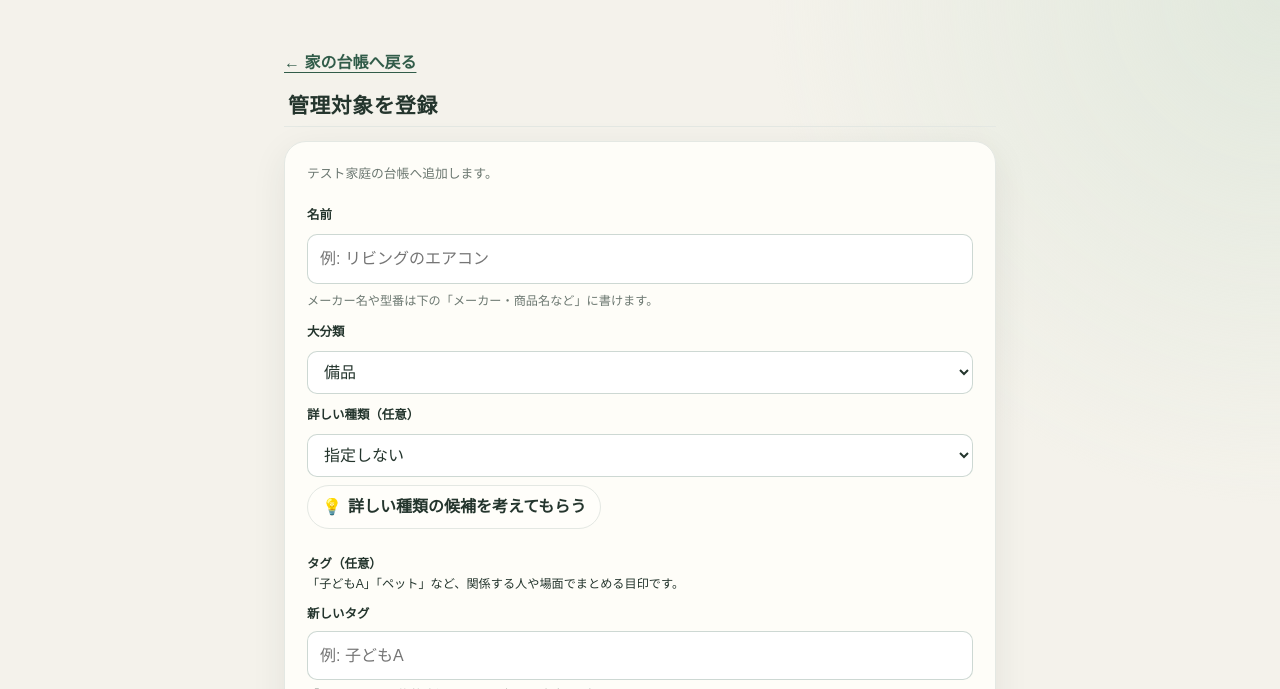
Scenario: 登録・編集の自由入力(詳しい種類)候補(Issue #288) › 「その他（自由入力）」を選ぶと、選択中の大分類で使用中の候補を並べる
Select "サービス" in the dropdown labelled "大分類" at (640, 373), box [307,351,973,394]
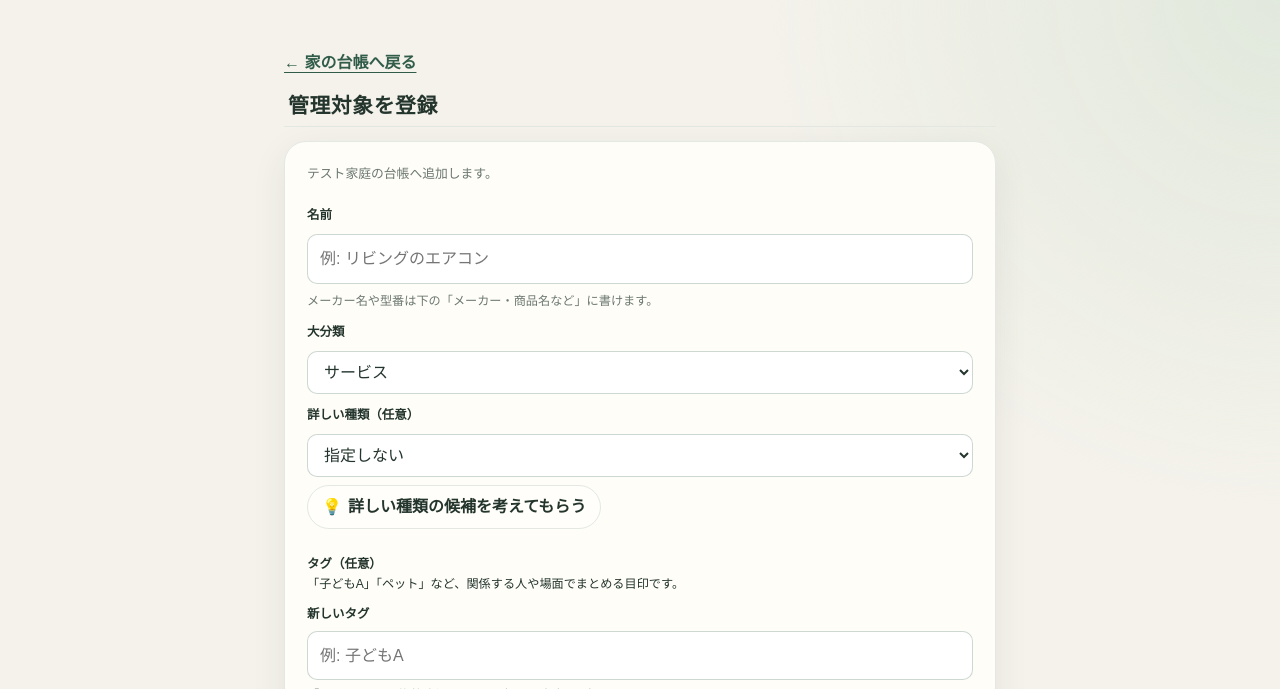
Select "その他（自由入力）" in the dropdown labelled "詳しい種類（任意）" at (640, 456), box [307,434,973,477]
(page scrolled)
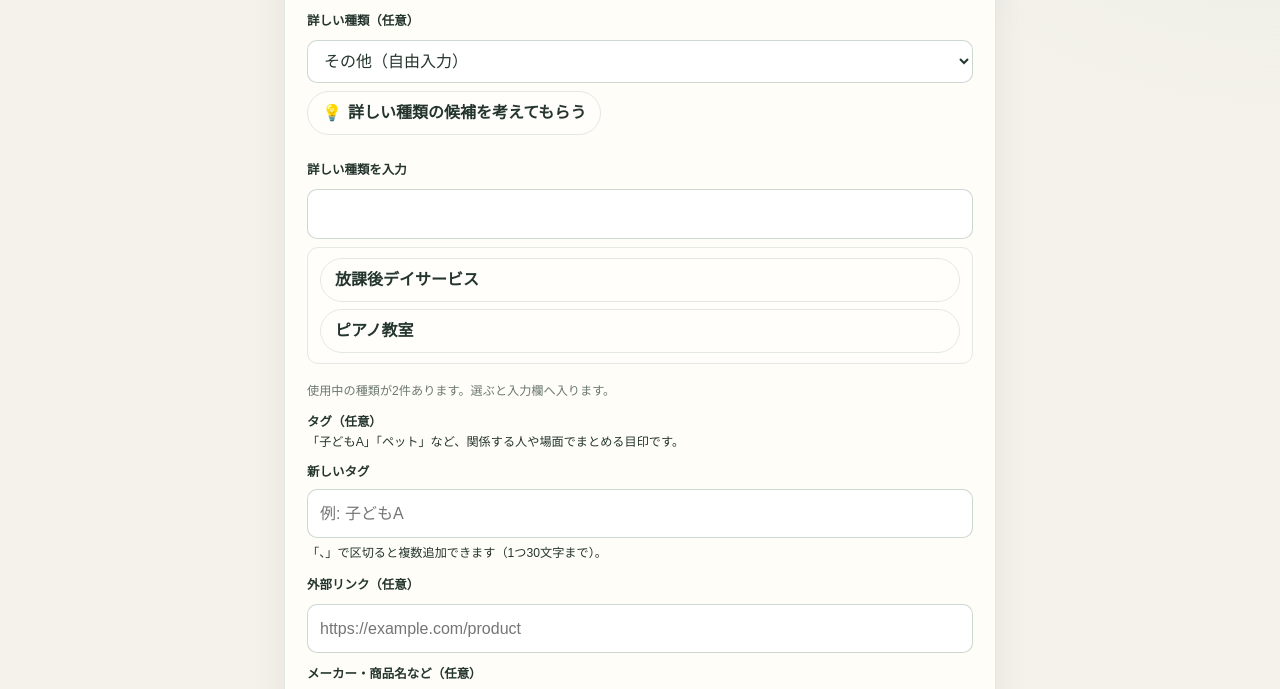
Expected: the button "放課後デイサービス" is shown, [320,258,960,302]
Expected: the button "ピアノ教室" is shown, [320,309,960,353]
Expected: the text "使用中の種類が2件あります。選ぶと入力欄へ入ります。" is shown, [307,384,615,398]
